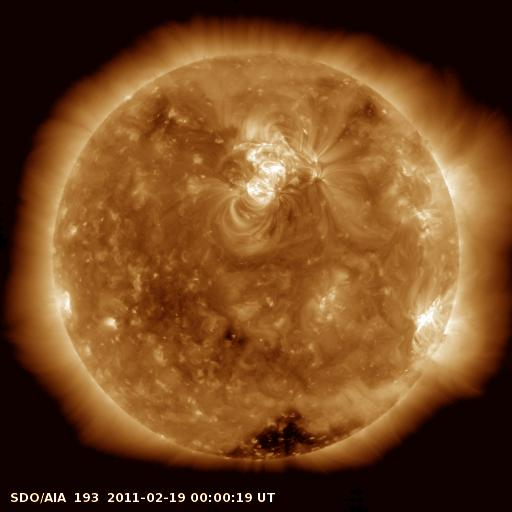coronal_hole: (215, 407, 355, 466)
